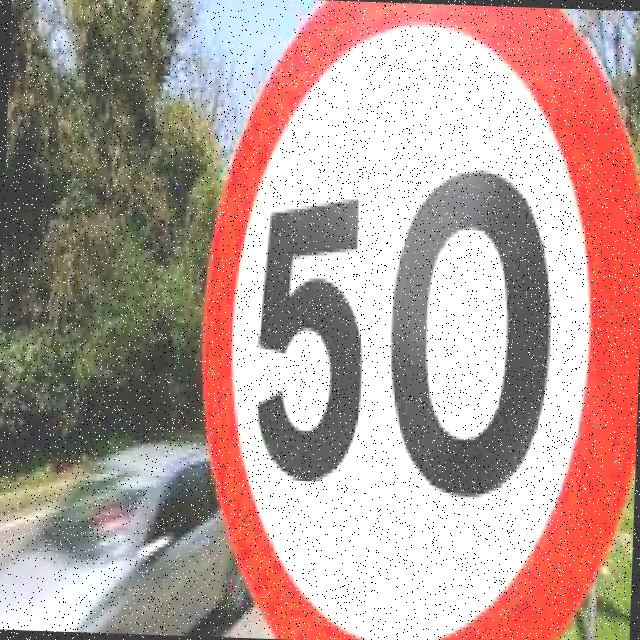Ograniczenie predkosci do 50: (196, 0, 638, 640)
